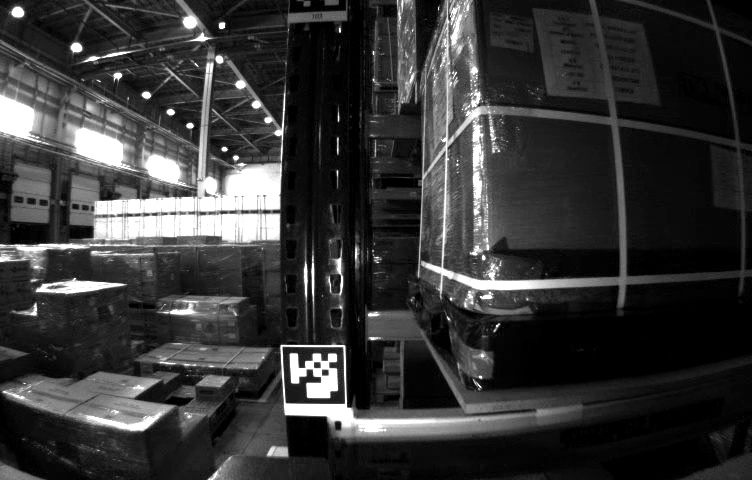True Barcode: (486, 10, 536, 56)
